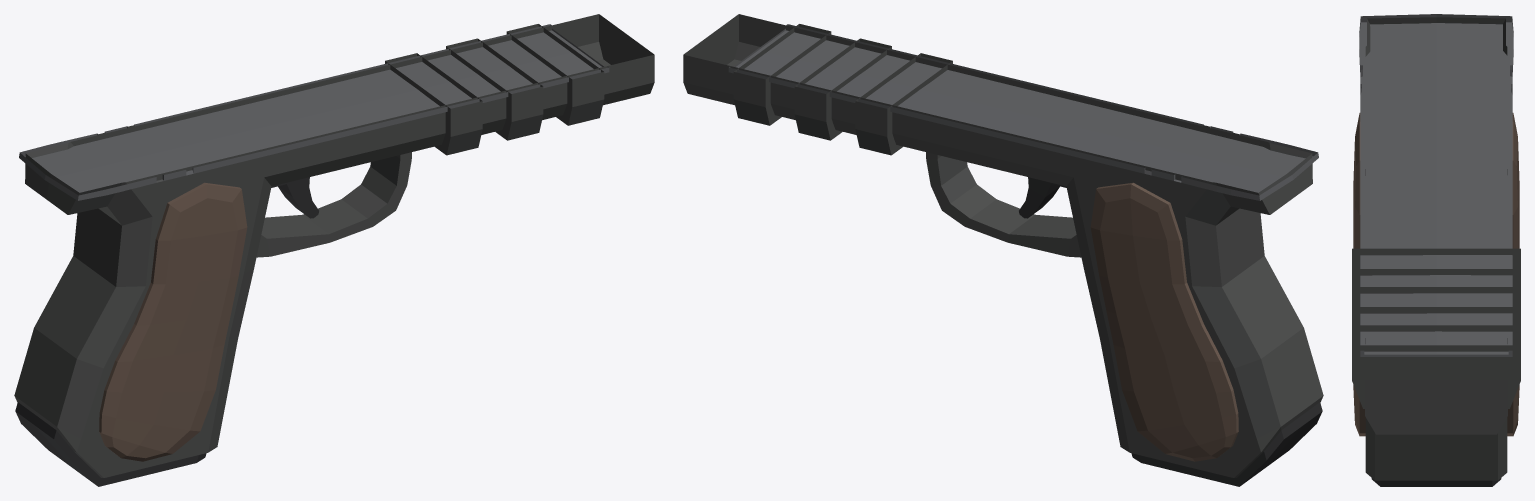
Rendered from Pistol_3.fbx.
The picture shows the model from 3 angles, left to right: view 1: azimuth 30°, elevation 25°; view 2: azimuth 150°, elevation 25°; view 3: azimuth 270°, elevation 25°; orthographic projection. The views are drawn at different scales.
Parts seen in each view (by area): view 1: Pistol_3; view 2: Pistol_3; view 3: Pistol_3.
Boxes of the visible parts, x1,y1,x2,y2 form: Pistol_3: [14, 14, 654, 486]; Pistol_3: [683, 14, 1323, 486]; Pistol_3: [1352, 14, 1520, 486].
Size of the model in its own units: 171 by 82.98 by 32.87.
